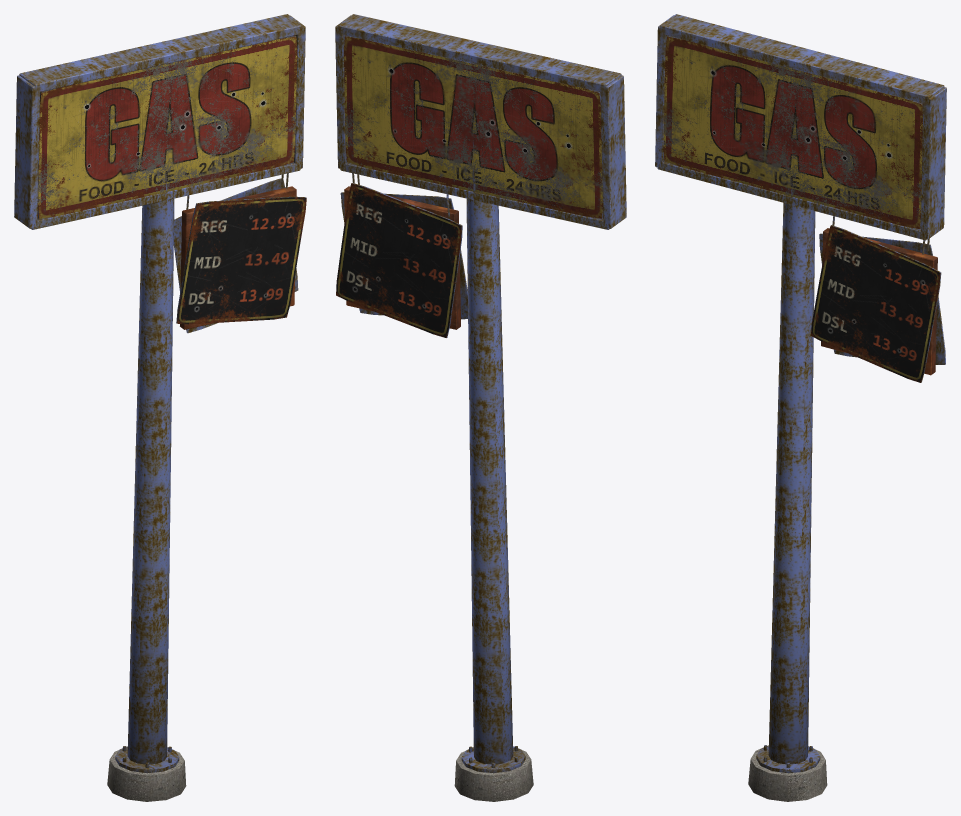
Rendered from sign_gas.glb.
3 renders of one model, left to right at view 1: azimuth 30°, elevation 25°; view 2: azimuth 150°, elevation 25°; view 3: azimuth 330°, elevation 25°, orthographic.
Parts seen in each view (by area): view 1: sign_gas_galvanized, sign_gas_sign_gas_cabinet, sign_gas_sign_gas_prices, sign_gas_concrete, sign_gas_rust_metal; view 2: sign_gas_galvanized, sign_gas_sign_gas_cabinet, sign_gas_sign_gas_prices, sign_gas_concrete, sign_gas_rust_metal; view 3: sign_gas_galvanized, sign_gas_sign_gas_cabinet, sign_gas_sign_gas_prices, sign_gas_concrete, sign_gas_rust_metal.
Boxes of the visible parts, x1,y1,x2,y2 form: sign_gas_galvanized: [14, 14, 306, 773]; sign_gas_sign_gas_cabinet: [38, 36, 297, 218]; sign_gas_sign_gas_prices: [177, 197, 306, 324]; sign_gas_concrete: [107, 750, 186, 801]; sign_gas_rust_metal: [37, 35, 296, 329]; sign_gas_galvanized: [335, 14, 626, 773]; sign_gas_sign_gas_cabinet: [344, 36, 602, 218]; sign_gas_sign_gas_prices: [336, 183, 461, 337]; sign_gas_concrete: [454, 750, 533, 801]; sign_gas_rust_metal: [344, 35, 603, 329]; sign_gas_galvanized: [655, 14, 946, 773]; sign_gas_sign_gas_cabinet: [663, 36, 922, 228]; sign_gas_sign_gas_prices: [811, 226, 940, 382]; sign_gas_concrete: [748, 749, 827, 801]; sign_gas_rust_metal: [667, 35, 937, 375].
Size of the model in its own units: 3.45 by 8.64 by 0.84.
Materials: 5 (5 with a texture image).
